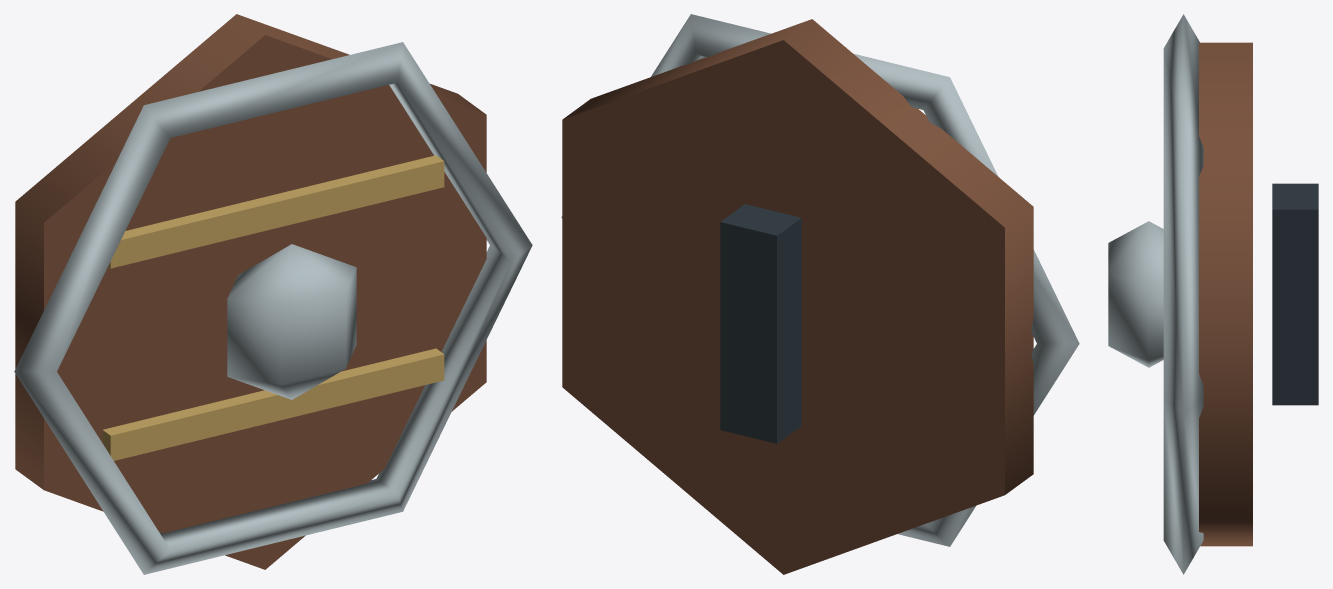
Rendered from fixed-shield-lod2.glb.
3 views of the same model, side by side, from view 1: azimuth 30°, elevation 25°; view 2: azimuth 150°, elevation 25°; view 3: azimuth 270°, elevation 25° (orthographic). The views are drawn at different scales.
Parts seen in each view (by area): view 1: piece_whole; view 2: piece_whole; view 3: piece_whole.
Boxes of the visible parts, x1,y1,x2,y2 form: piece_whole: [14, 14, 532, 574]; piece_whole: [561, 14, 1079, 574]; piece_whole: [1108, 14, 1318, 574].
Bounding box in the file's own units: 0.73 × 0.72 × 0.2725.
